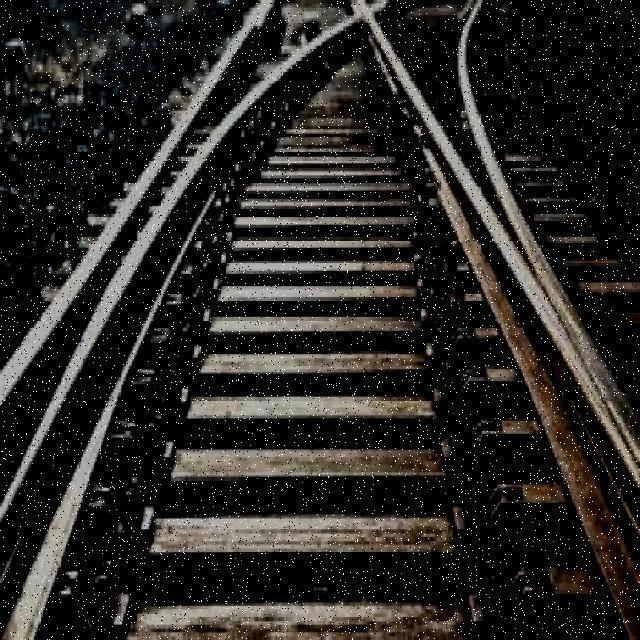rail: (2, 2, 640, 635)
